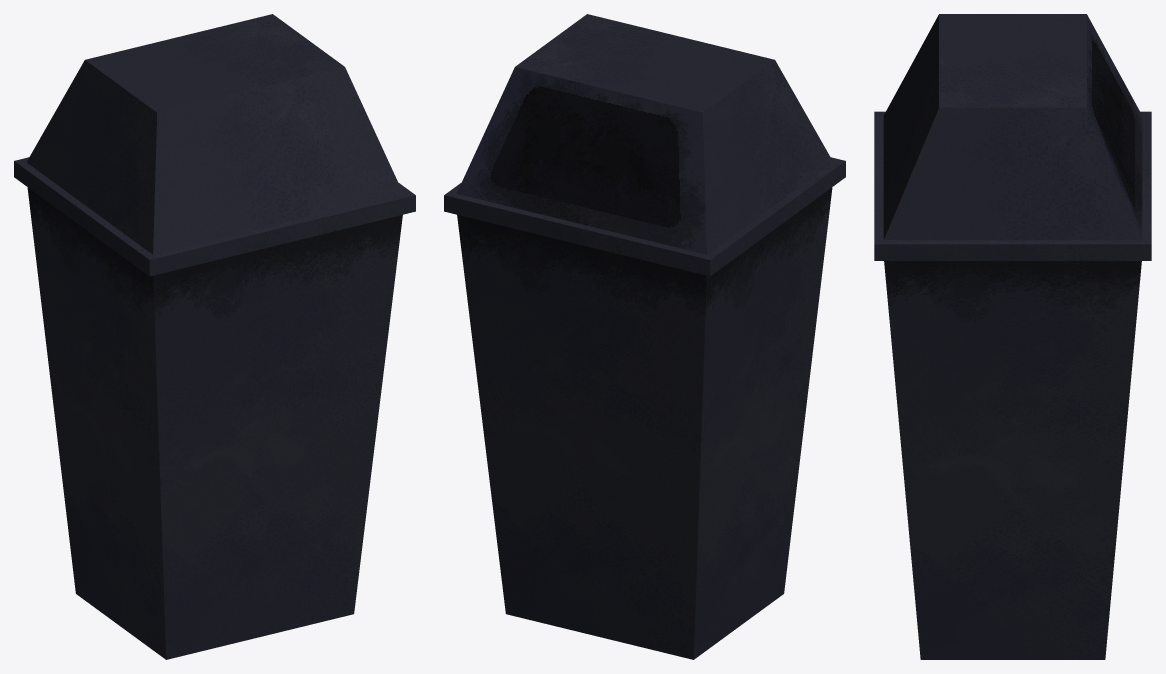
Rendered from trashbin.gltf.
3 renders of one model, left to right at view 1: azimuth 30°, elevation 25°; view 2: azimuth 150°, elevation 25°; view 3: azimuth 270°, elevation 25°, orthographic. The views are drawn at different scales.
Parts seen in each view (by area): view 1: trash can; view 2: trash can; view 3: trash can.
Boxes of the visible parts, bbox=[...] form: trash can: bbox=[14, 14, 415, 659]; trash can: bbox=[444, 14, 845, 659]; trash can: bbox=[874, 14, 1151, 659].
Bounding box in the file's own units: 1.06 × 2.06 × 0.9375.
1 material, 1 textured.
